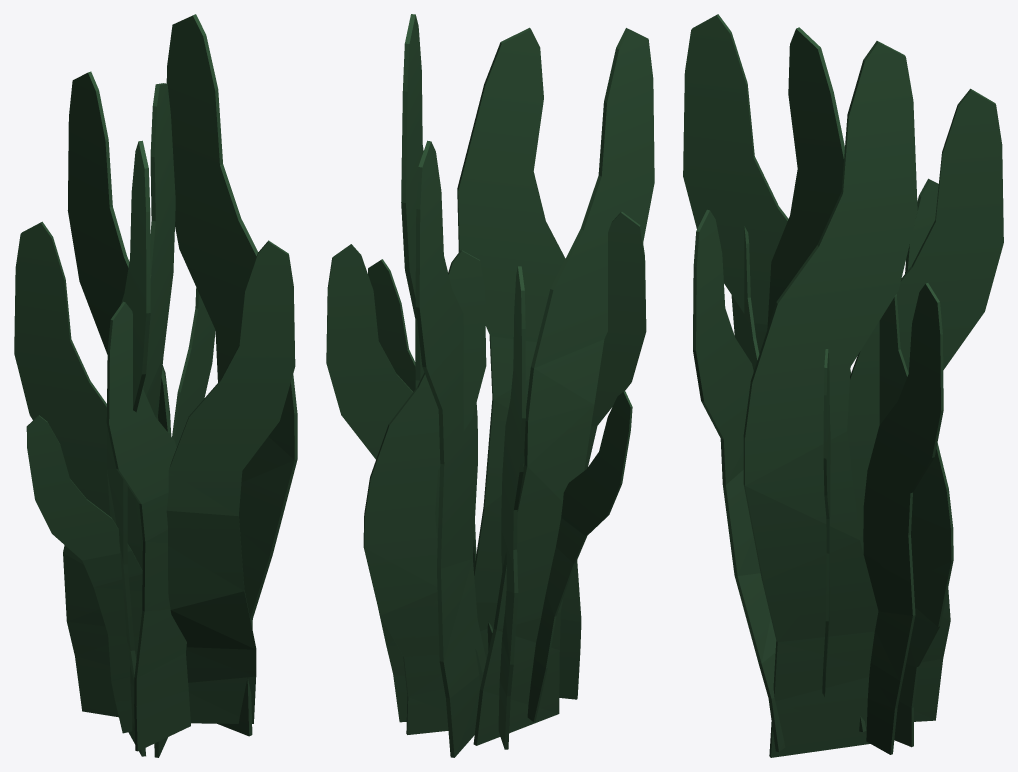
The model's file is seaweed.glb.
3 renders of one model, left to right at view 1: azimuth 30°, elevation 25°; view 2: azimuth 150°, elevation 25°; view 3: azimuth 270°, elevation 25°, orthographic. The views are drawn at different scales.
Parts seen in each view (by area): view 1: seaweed_merged; view 2: seaweed_merged; view 3: seaweed_merged.
Part boxes in pixels (<box>): seaweed_merged: <box>14,14,297,757</box>; seaweed_merged: <box>326,14,654,757</box>; seaweed_merged: <box>683,14,1003,757</box>.
Size of the model in its own units: 0.6418 by 1.64 by 0.6608.
1 material, 1 textured.
